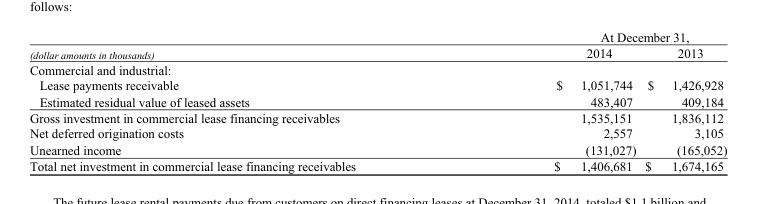table: (28, 29, 726, 173)
table column: (28, 29, 454, 173), (454, 29, 639, 173), (639, 29, 726, 173)
table column header: (28, 29, 726, 61)
table projected row header: (28, 61, 726, 77)
table row: (28, 44, 726, 61), (28, 92, 726, 109), (28, 61, 726, 77), (28, 109, 726, 125), (28, 125, 726, 141), (28, 141, 726, 157), (28, 157, 726, 173), (28, 29, 726, 44), (28, 77, 726, 92)
table spanning cell: (28, 29, 454, 61), (454, 29, 726, 44)
